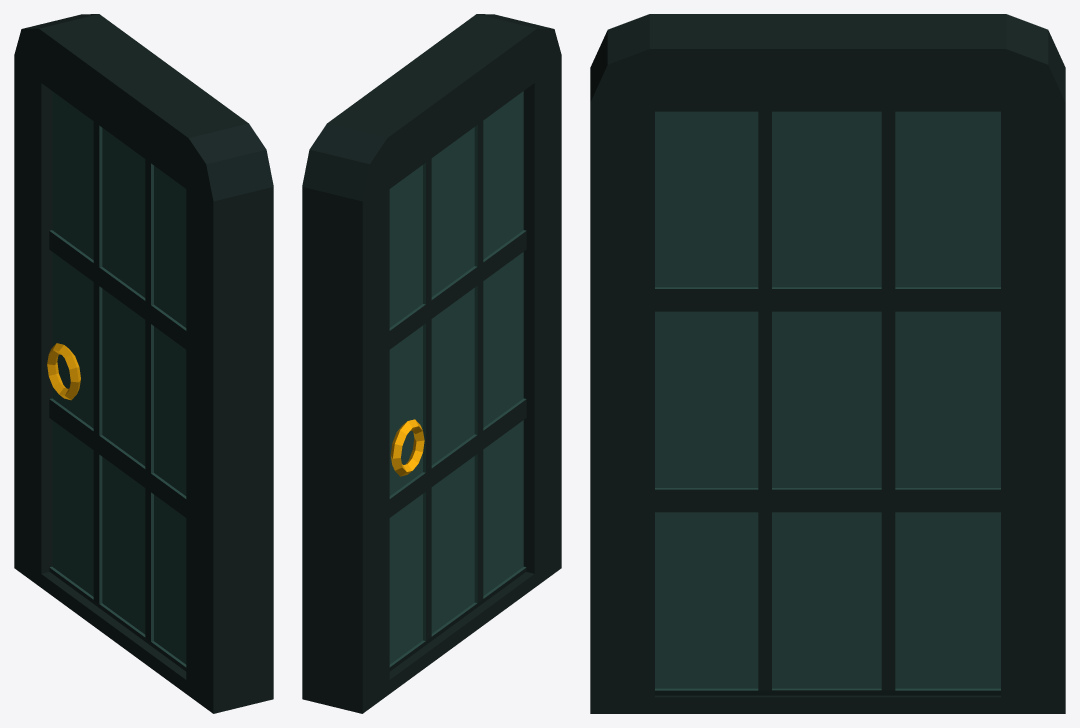
File: m_door.glb
The picture shows the model from 3 angles, left to right: view 1: azimuth 30°, elevation 25°; view 2: azimuth 150°, elevation 25°; view 3: azimuth 270°, elevation 25°; orthographic projection. The views are drawn at different scales.
Parts seen in each view (by area): view 1: M_DoorBase, M_Door; view 2: M_DoorBase, M_Door; view 3: M_Door, M_DoorBase.
Part boxes in pixels (x1=…): M_DoorBase: x1=14, y1=14, x2=273, y2=713; M_Door: x1=47, y1=91, x2=186, y2=671; M_DoorBase: x1=302, y1=14, x2=561, y2=713; M_Door: x1=389, y1=91, x2=526, y2=671; M_Door: x1=655, y1=111, x2=1000, y2=695; M_DoorBase: x1=590, y1=14, x2=1065, y2=713.
Bounding box in the file's own units: 0.2367 × 2 × 1.3.
Materials: 1 (1 with a texture image).
